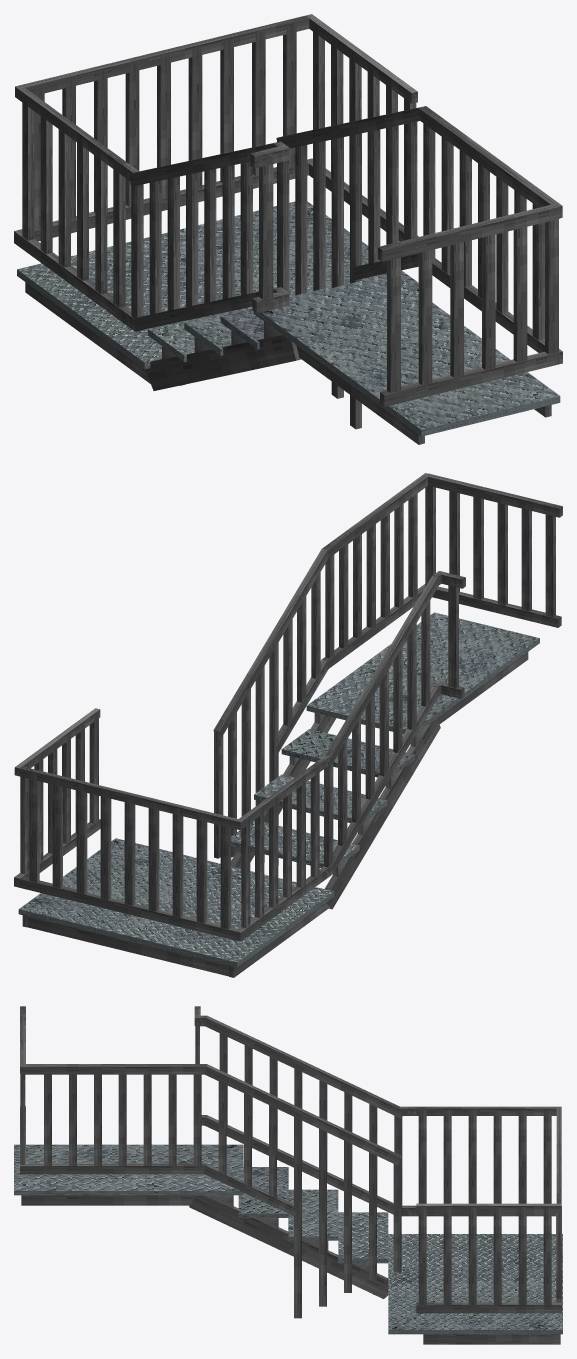
The model's file is metal_stairs_top.gltf.
The picture shows the model from 3 angles, top to bottom: view 1: azimuth 30°, elevation 25°; view 2: azimuth 150°, elevation 25°; view 3: azimuth 270°, elevation 25°; orthographic projection. The views are drawn at different scales.
Parts seen in each view (by area): view 1: Stair top; view 2: Stair top; view 3: Stair top.
Boxes of the visible parts, x1=… form: Stair top: x1=14, y1=14, x2=562, y2=444; Stair top: x1=14, y1=473, x2=562, y2=977; Stair top: x1=14, y1=1006, x2=562, y2=1344.
Bounding box in the file's own units: 3.23 × 3.48 × 6.88.
Materials: 3 (2 with a texture image).
